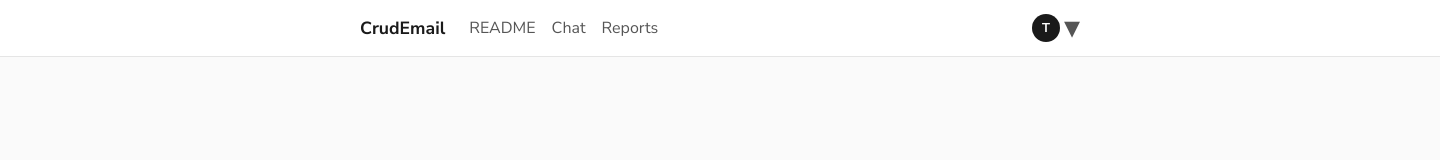
AppNav › dropdown contains Dashboard and Sign Out when authenticated
Click the button with class "avatar-trigger".
click(1056, 28)  # box [1032, 12, 1080, 44]
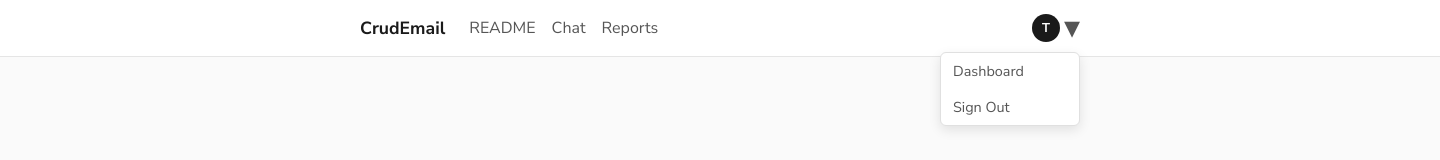
Check: the element with class "avatar-menu" shows "Dashboard", box [941, 53, 1079, 89]
Check: the element with class "avatar-menu" shows "Sign Out", box [941, 89, 1079, 125]
